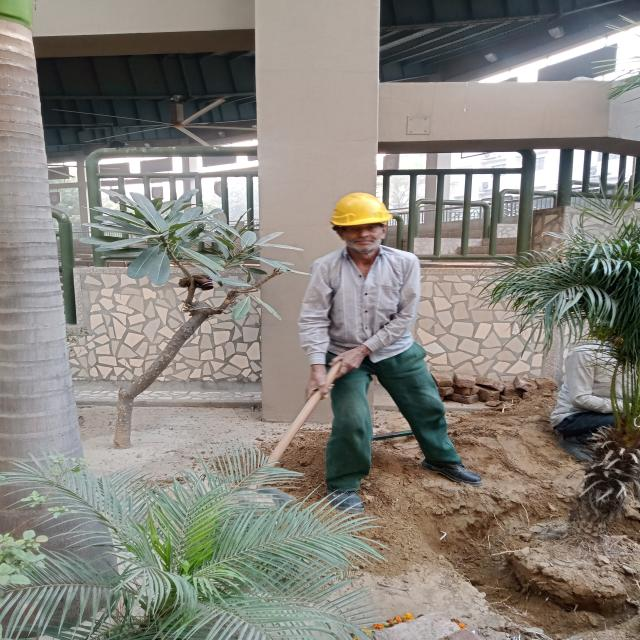no jacket: (298, 186, 475, 497)
